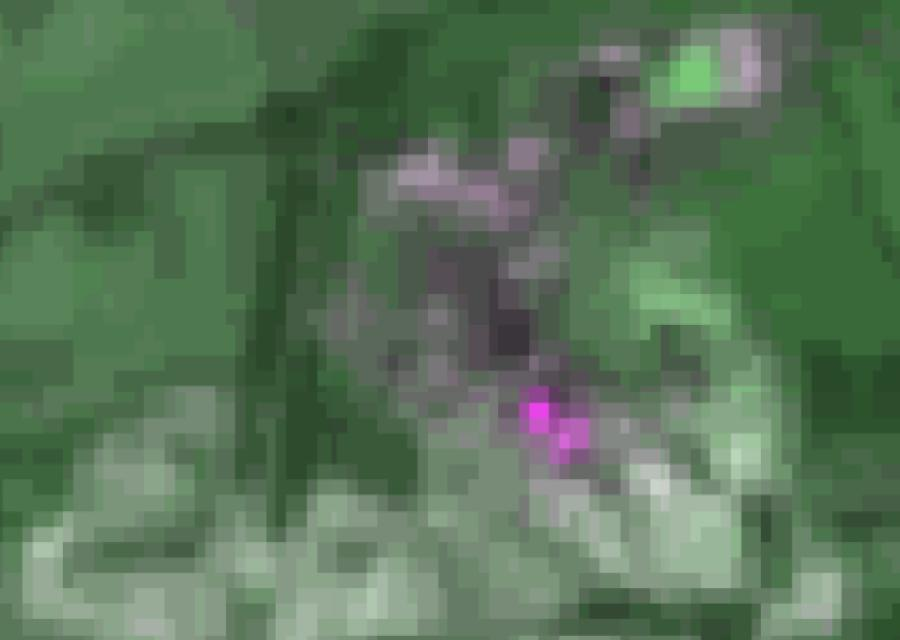Potential Lime Manufacturing Facility: (526, 400, 576, 452)
